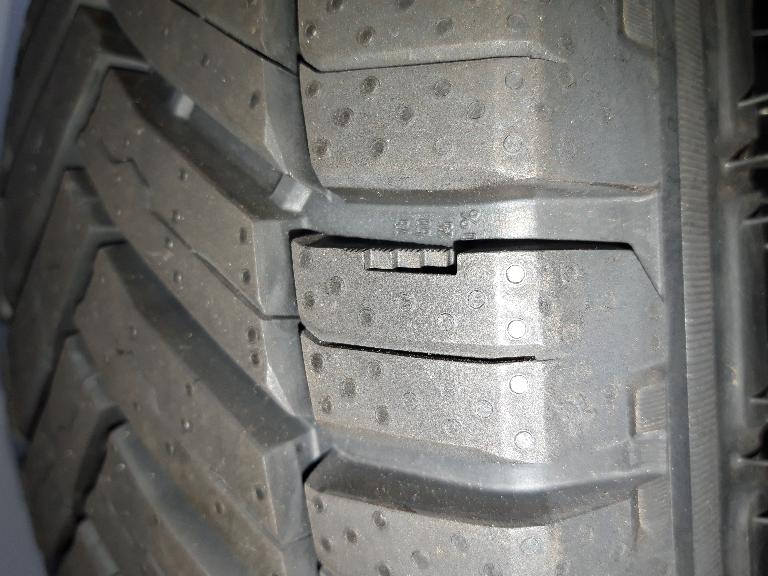temoin:100: (344, 246, 461, 278)
